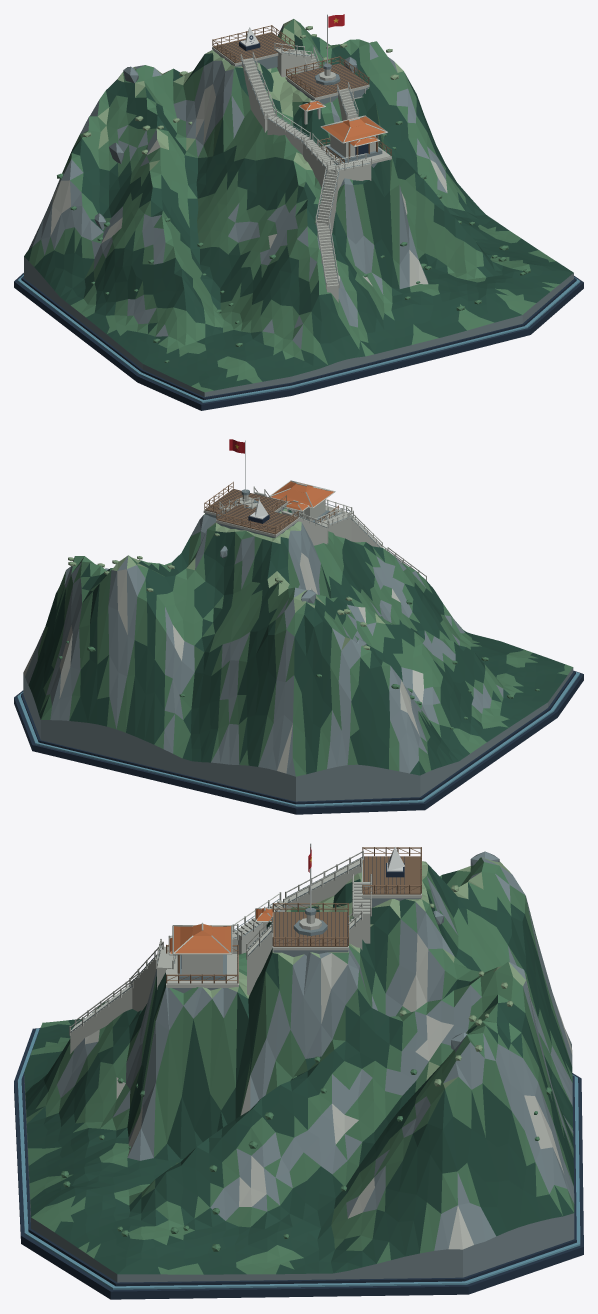
File: mysterios1.glb
3 renders of one model, top to bottom at view 1: azimuth 30°, elevation 25°; view 2: azimuth 150°, elevation 25°; view 3: azimuth 270°, elevation 25°, orthographic. The views are drawn at different scales.
Parts seen in each view (by area): view 1: Terrain, Static_Facilities; view 2: Terrain, Static_Facilities; view 3: Terrain, Static_Facilities.
Part boxes in pixels (<box>): Terrain: <box>24,19,573,396</box>; Static_Facilities: <box>14,14,583,410</box>; Terrain: <box>23,507,573,801</box>; Static_Facilities: <box>14,440,583,814</box>; Terrain: <box>24,857,574,1282</box>; Static_Facilities: <box>14,843,583,1299</box>.
Size of the model in its own units: 27.6 by 16 by 24.2.
